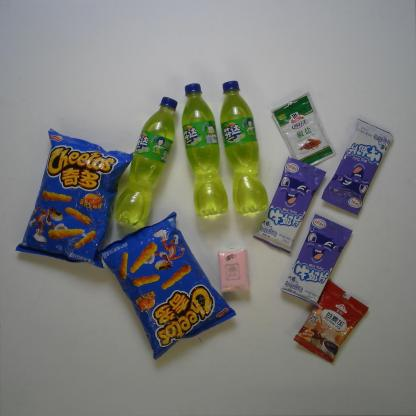Candy: (319, 116, 395, 216), (252, 154, 328, 253), (277, 212, 354, 308)
Drink: (112, 95, 179, 231), (218, 79, 270, 215), (180, 81, 230, 221)
Instant Drink: (292, 278, 371, 366)
Puffed Food: (98, 209, 238, 362), (13, 126, 136, 268)
Seasoner: (270, 92, 336, 168)
Tissue: (218, 247, 249, 296)
